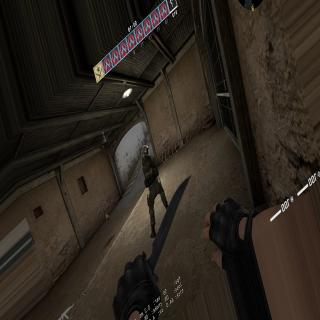CT-Body: (139, 135, 168, 236)
CT-Head: (142, 144, 148, 158)
